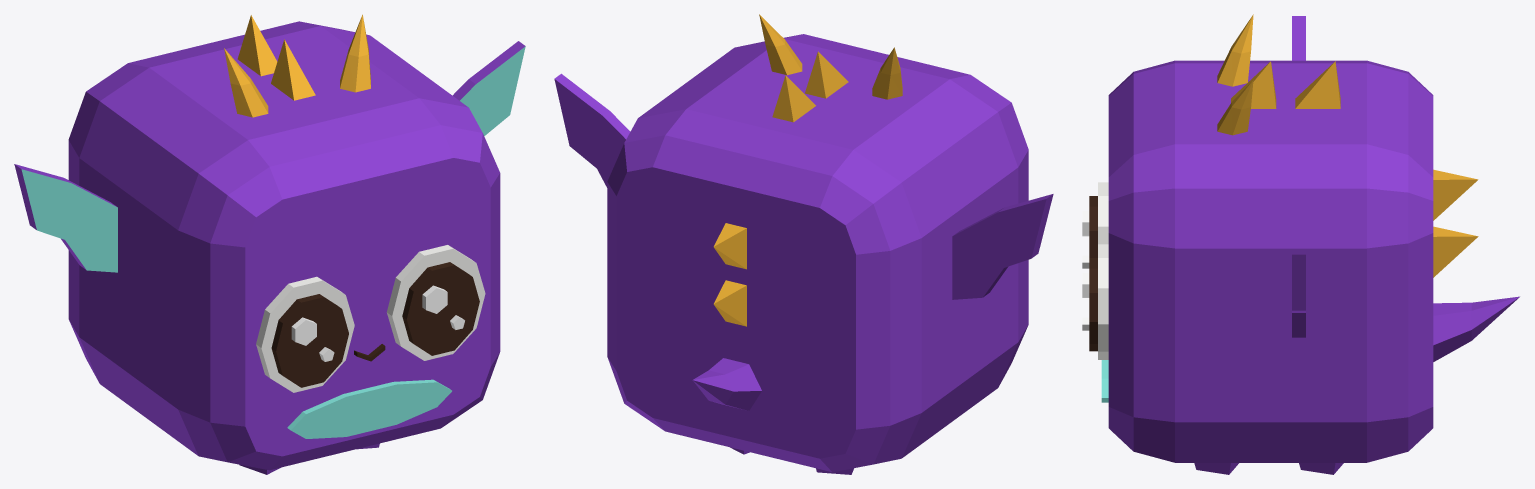
Rendered from dragon-pet-v2.glb.
The picture shows the model from 3 angles, left to right: view 1: azimuth 30°, elevation 25°; view 2: azimuth 150°, elevation 25°; view 3: azimuth 270°, elevation 25°; orthographic projection. The views are drawn at different scales.
Visible parts, largest first — view 1: Body, Accent, Pupil, EyeWhite, Gold, EyeShine; view 2: Body, Gold; view 3: Body, Gold, EyeWhite, Pupil, EyeShine.
Boxes of the visible parts, bbox=[...] form: Body: bbox=[14, 21, 525, 474]; Accent: bbox=[21, 46, 525, 438]; Pupil: bbox=[271, 262, 479, 387]; EyeWhite: bbox=[256, 245, 485, 392]; Gold: bbox=[224, 14, 370, 117]; EyeShine: bbox=[291, 285, 464, 361]; Body: bbox=[554, 34, 1053, 474]; Gold: bbox=[713, 14, 902, 326]; Body: bbox=[1108, 16, 1519, 474]; Gold: bbox=[1217, 14, 1478, 277]; EyeWhite: bbox=[1098, 182, 1108, 359]; Pupil: bbox=[1089, 196, 1097, 351]; EyeShine: bbox=[1082, 211, 1089, 330].
Size of the model in its own units: 3.24 by 2.51 by 2.51.
